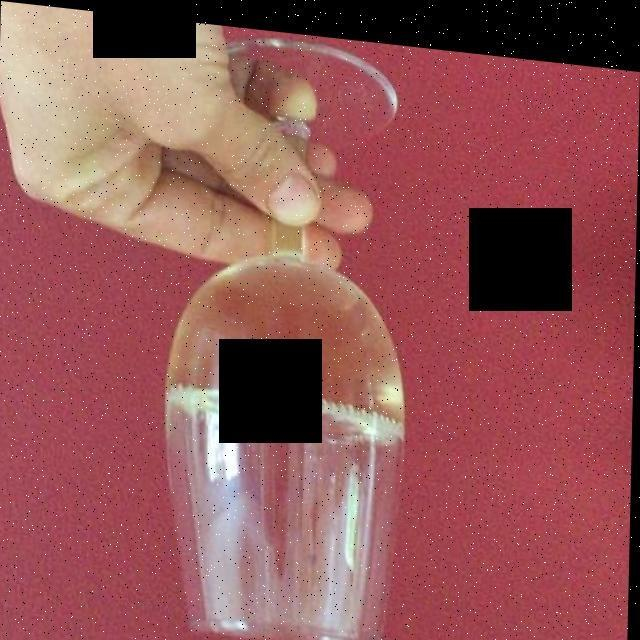wine: (159, 252, 417, 424)
